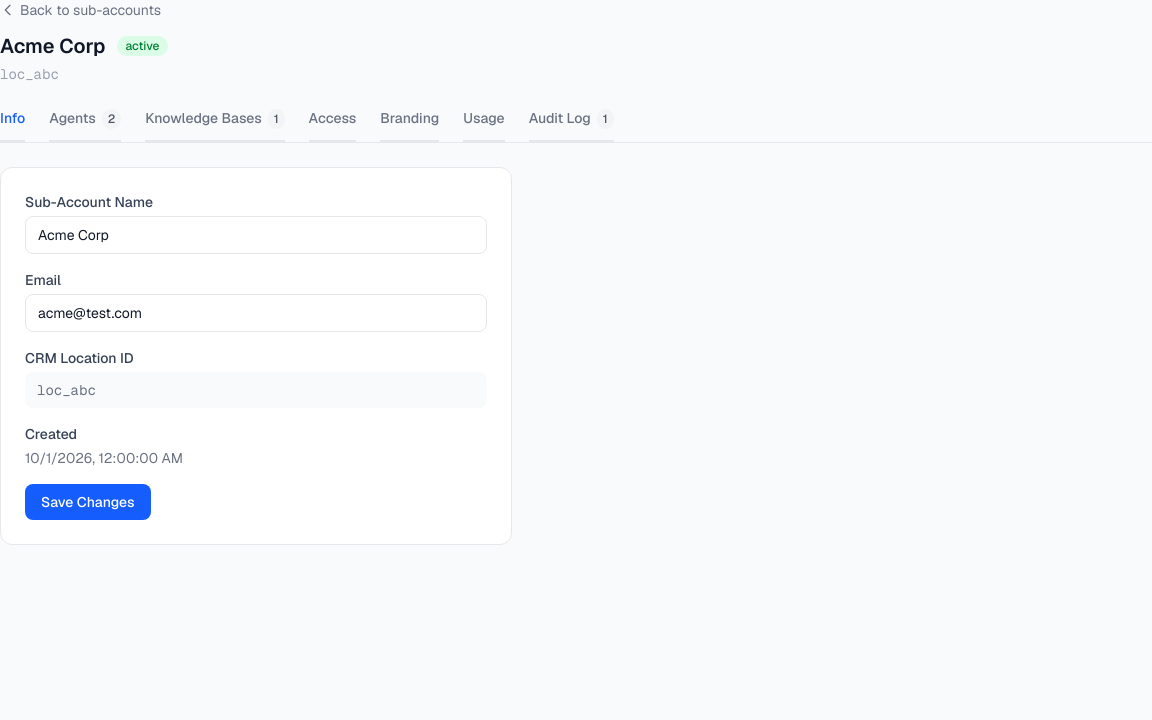
Test: TenantDetail › switches to access tab for active tenant
The image size is (1152, 720).
Click the button "Access".
click(332, 125)  # box [309, 108, 356, 142]
(page scrolled)
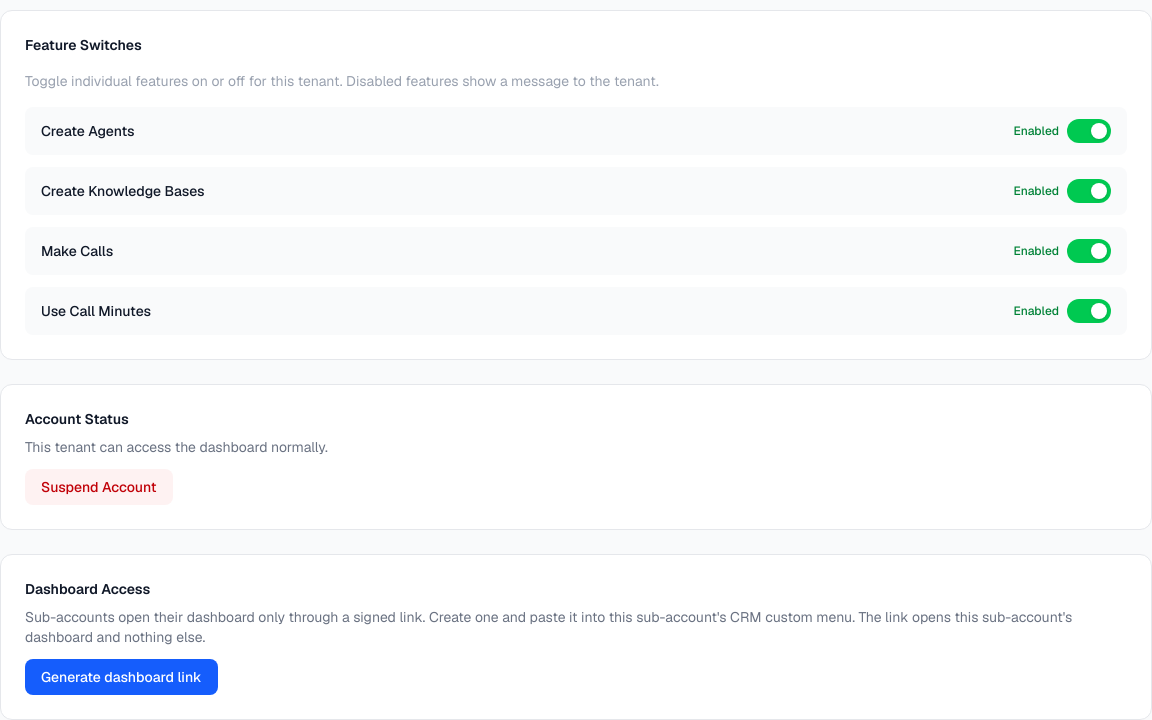
Expected: the text "This tenant can access the dashboard normally." is shown, [25, 438, 328, 456]
Expected: the button "Suspend Account" is shown, [25, 469, 172, 505]
